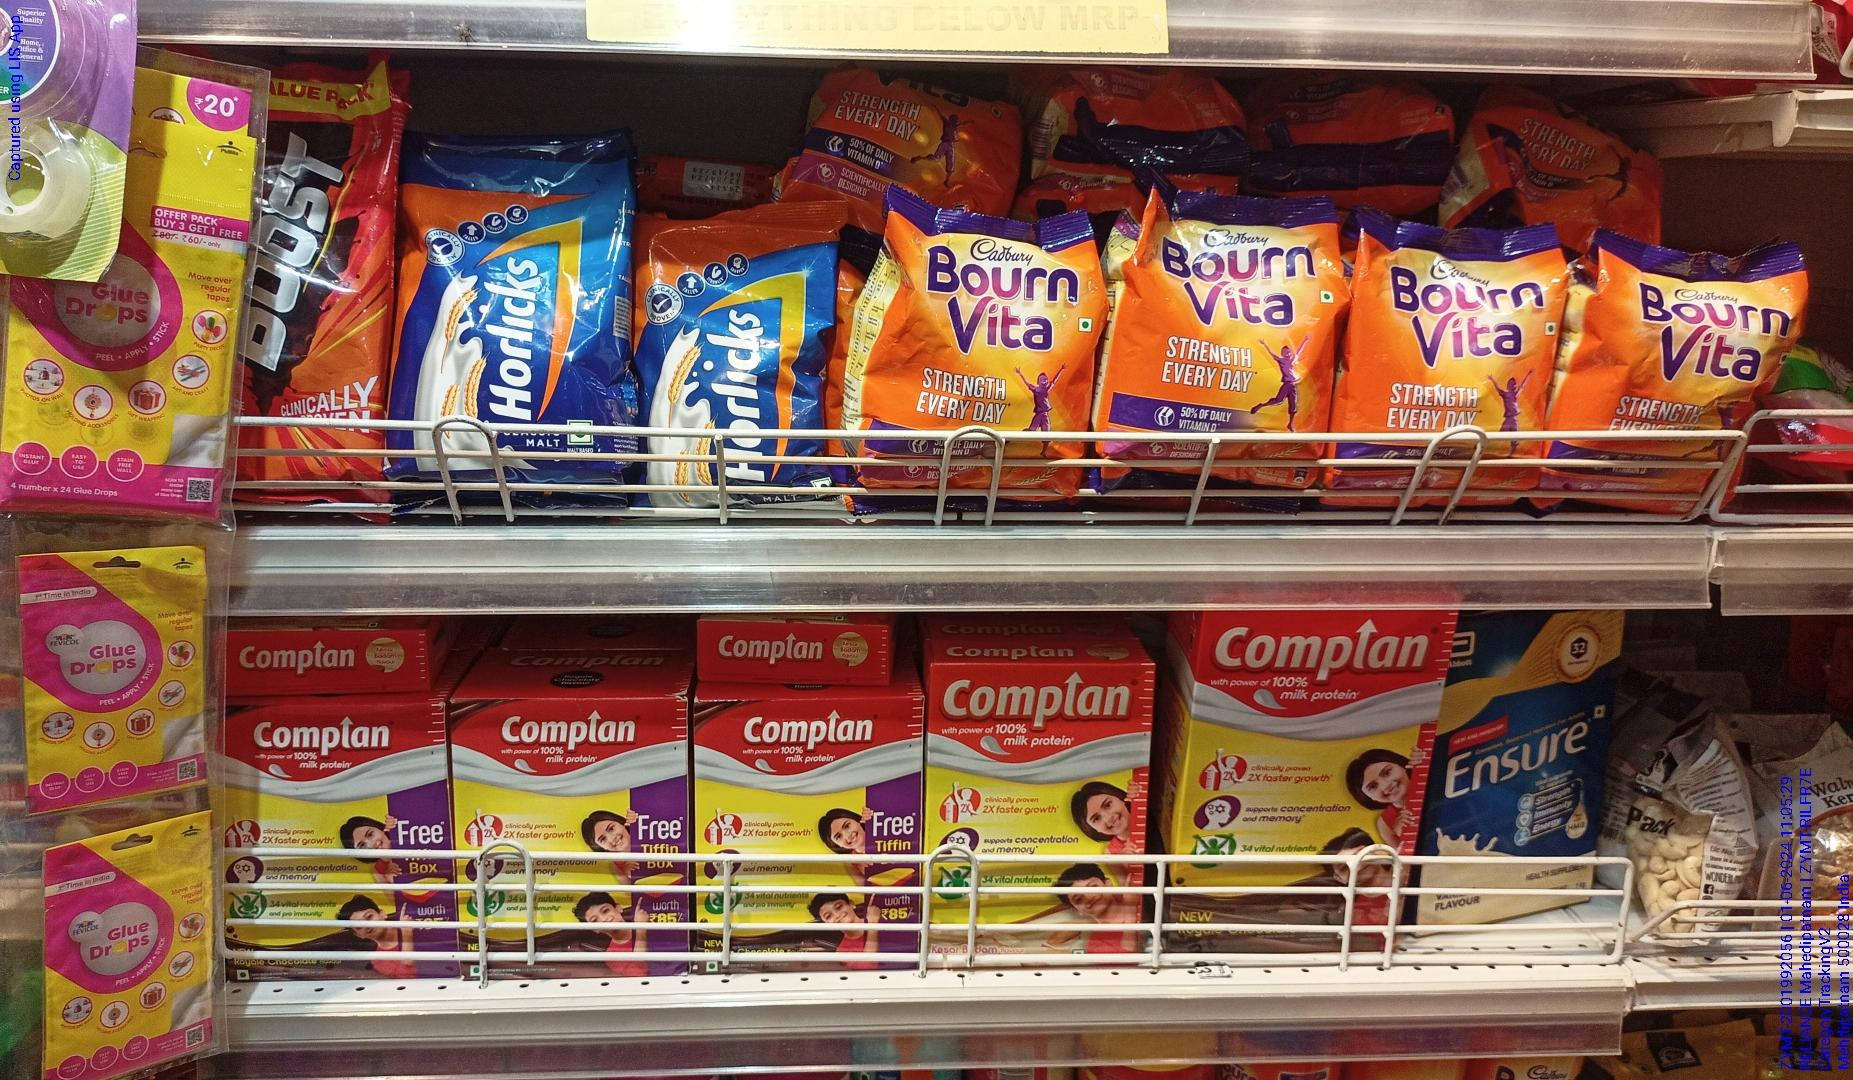BOURN_VITA_500_G_POUCH: (867, 197, 1082, 510), (1126, 194, 1327, 514), (1349, 216, 1542, 514), (1584, 239, 1785, 517)
COMPLAN_CHOCOLATE_1_KG_PACK: (1195, 586, 1437, 968)
COMPLAN_KESAR_BADAM_500_GMS_PACK: (933, 667, 1142, 967)
ENSURE_VANILLA_400_G_PACK: (1446, 599, 1614, 928)
HORLICK_CLASSIC_MALT_750_G_POUCH: (396, 139, 635, 507)
